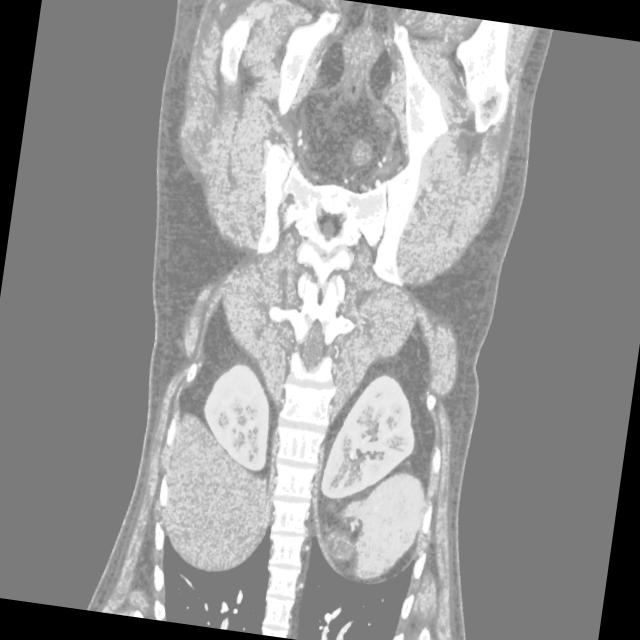NORMAL: (86, 76, 535, 640)
